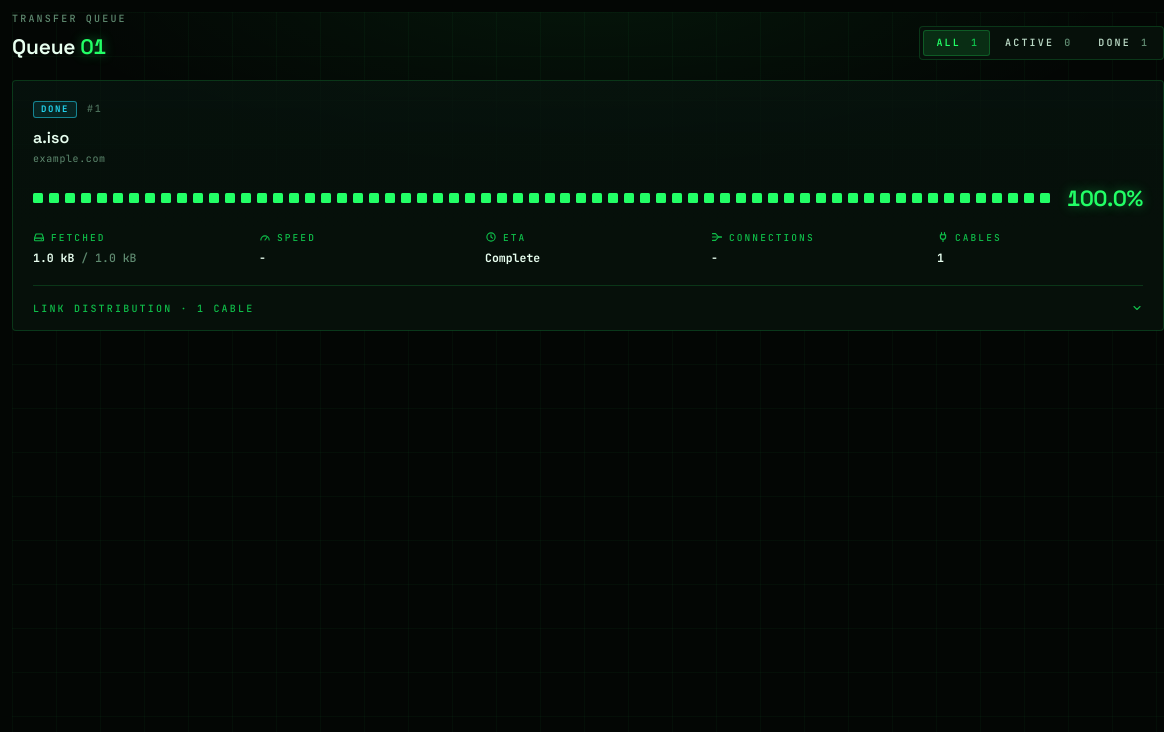
Test case: an empty Active says so
This screenshot has width=1164, height=732.
Click the button "Active 0".
click(1038, 42)  # box [992, 30, 1083, 56]
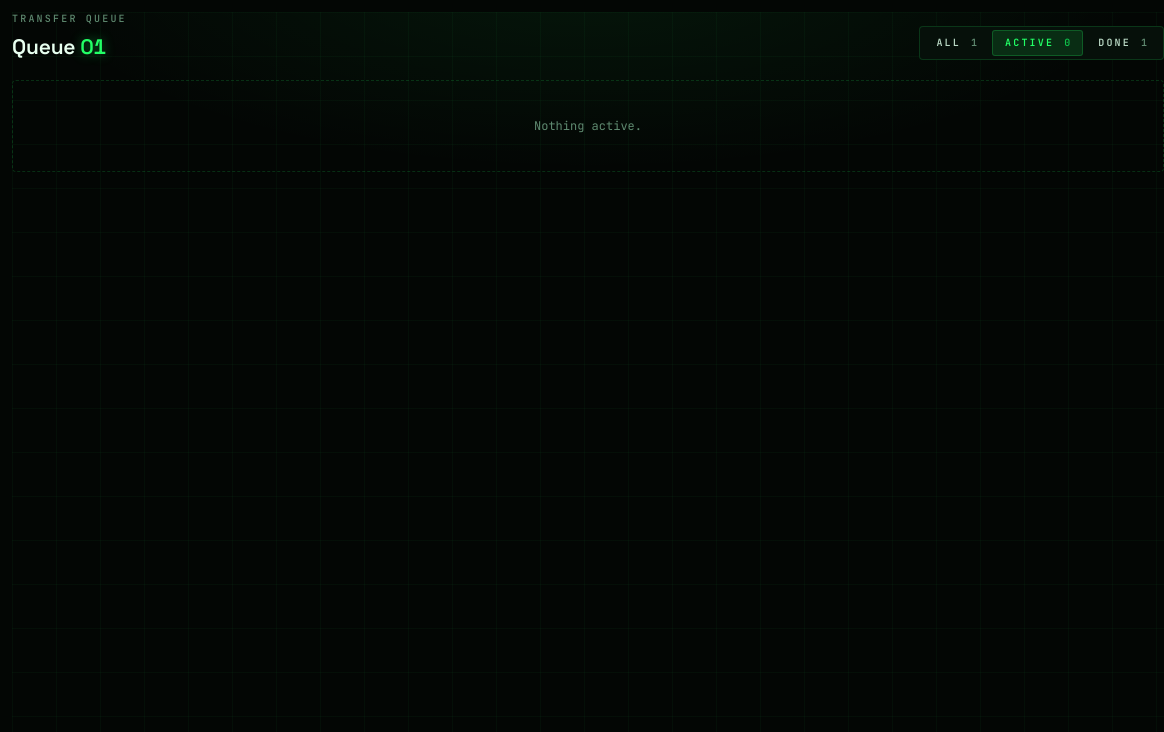
Check: the text "Nothing active." is shown, box [12, 80, 1163, 172]
